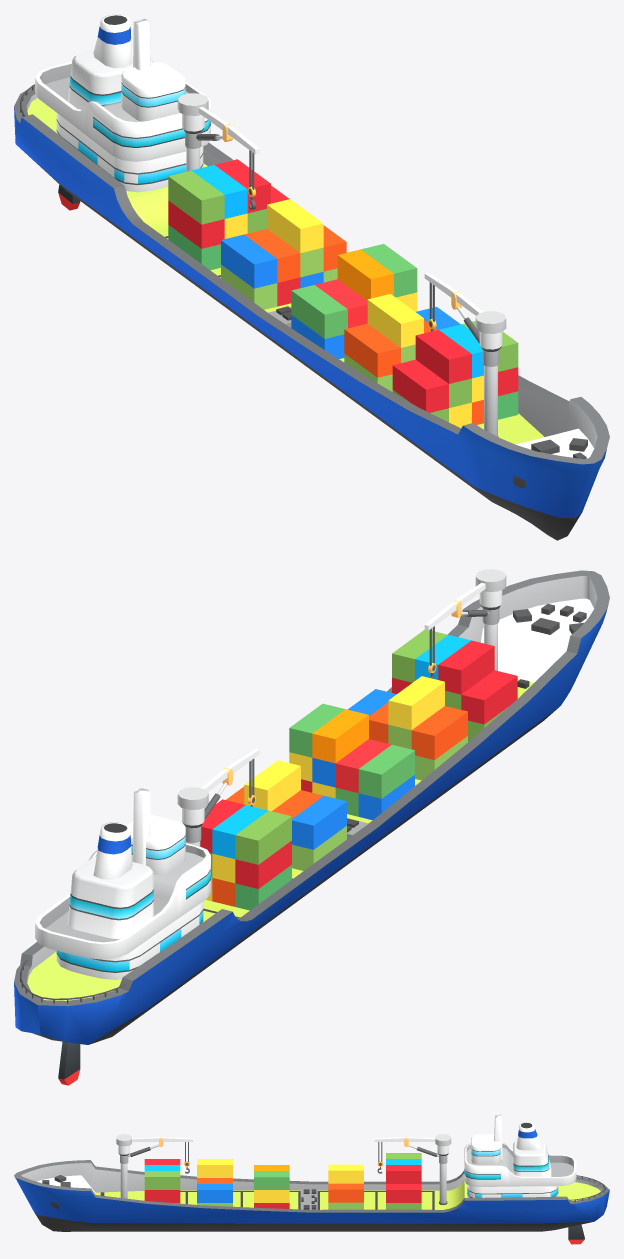
File: Cargo_Ship_01.glb
3 views of the same model, one above another, from view 1: azimuth 30°, elevation 25°; view 2: azimuth 150°, elevation 25°; view 3: azimuth 270°, elevation 25° (orthographic). The views are drawn at different scales.
Parts seen in each view (by area): view 1: Cargo_Ship_01; view 2: Cargo_Ship_01; view 3: Cargo_Ship_01.
Part boxes in pixels (x1,y1,x2,y2): Cargo_Ship_01: [14, 14, 609, 540]; Cargo_Ship_01: [14, 569, 609, 1085]; Cargo_Ship_01: [14, 1114, 609, 1244].
Bounding box in the file's own units: 11.06 × 20.82 × 88.32.
Materials: 1 (1 with a texture image).
